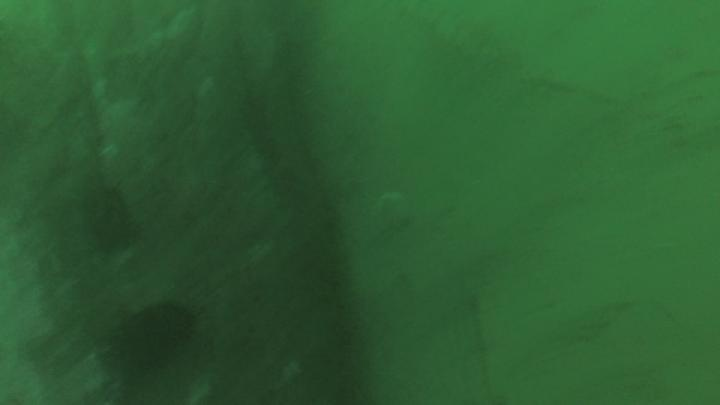echinus: (106, 298, 199, 379), (78, 179, 142, 255)
